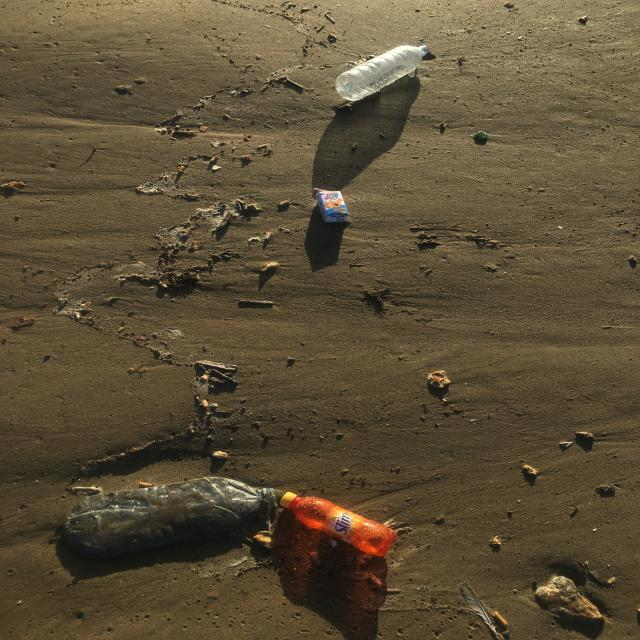Bottle cap: (472, 129, 488, 144)
Juice box: (312, 185, 351, 225)
Plastic bottle: (57, 473, 278, 564), (278, 488, 400, 559), (333, 42, 432, 104)
